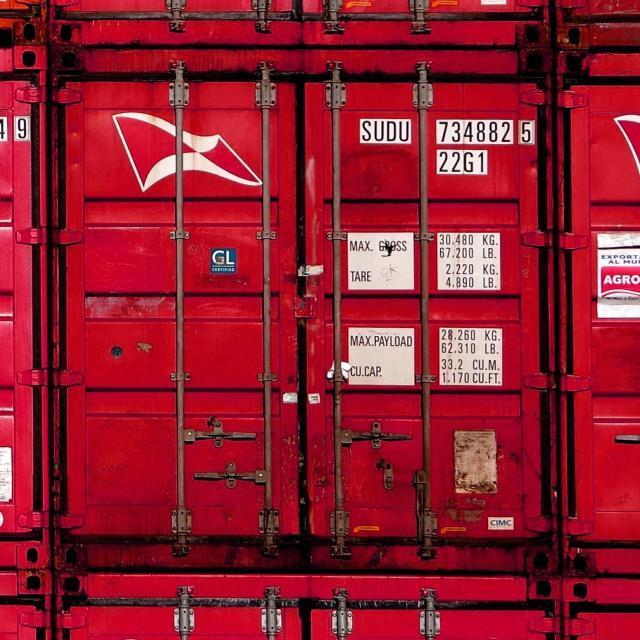ISO: (438, 152, 490, 176)
container_number: (362, 118, 530, 146)
